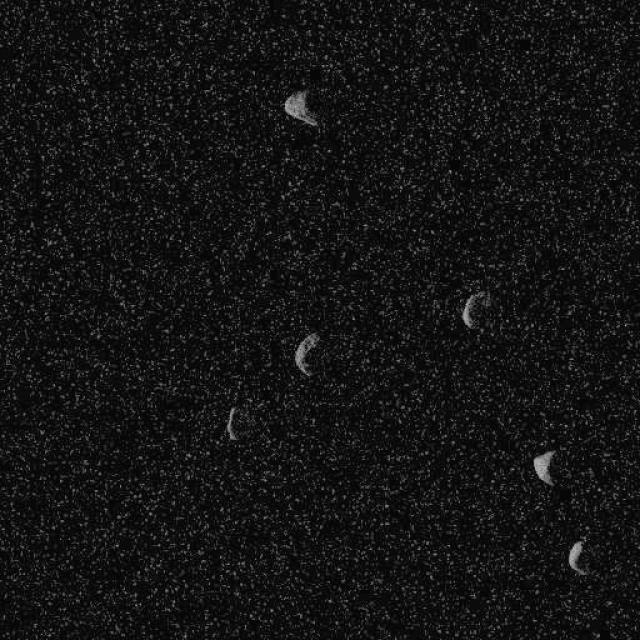D2: (292, 332, 324, 378), (282, 88, 318, 128), (460, 290, 491, 330), (532, 449, 556, 486), (566, 539, 588, 576), (224, 405, 238, 441)
